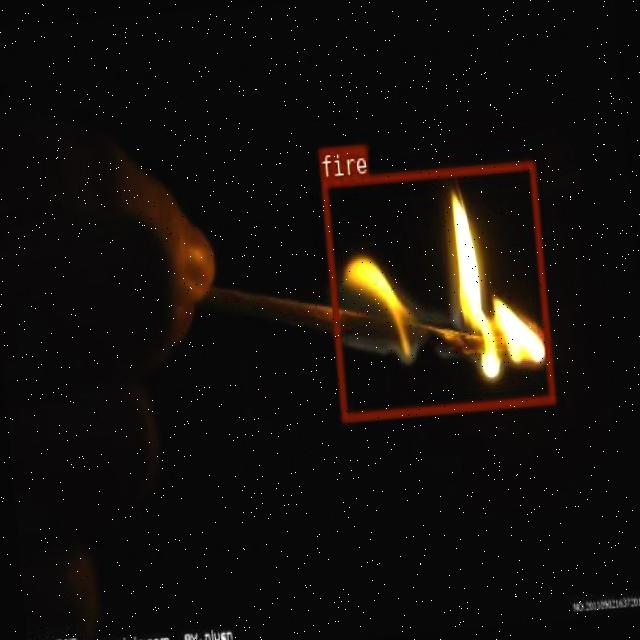fire: (320, 158, 554, 420)
